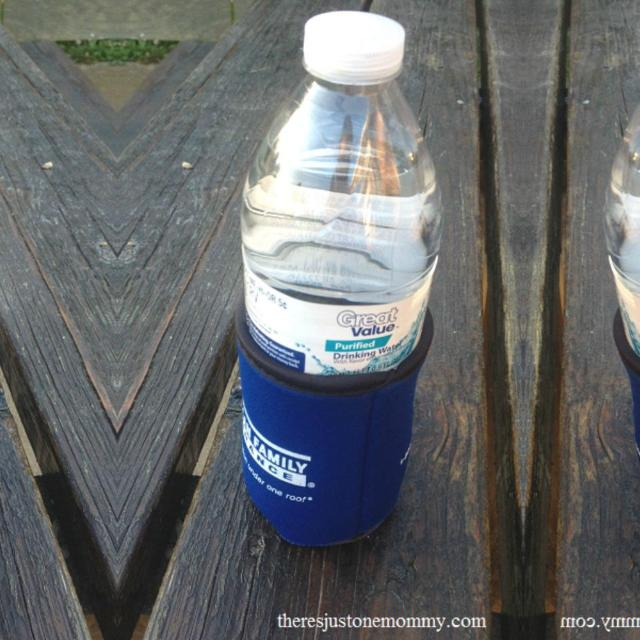trash: (230, 5, 450, 558), (596, 4, 640, 556)
